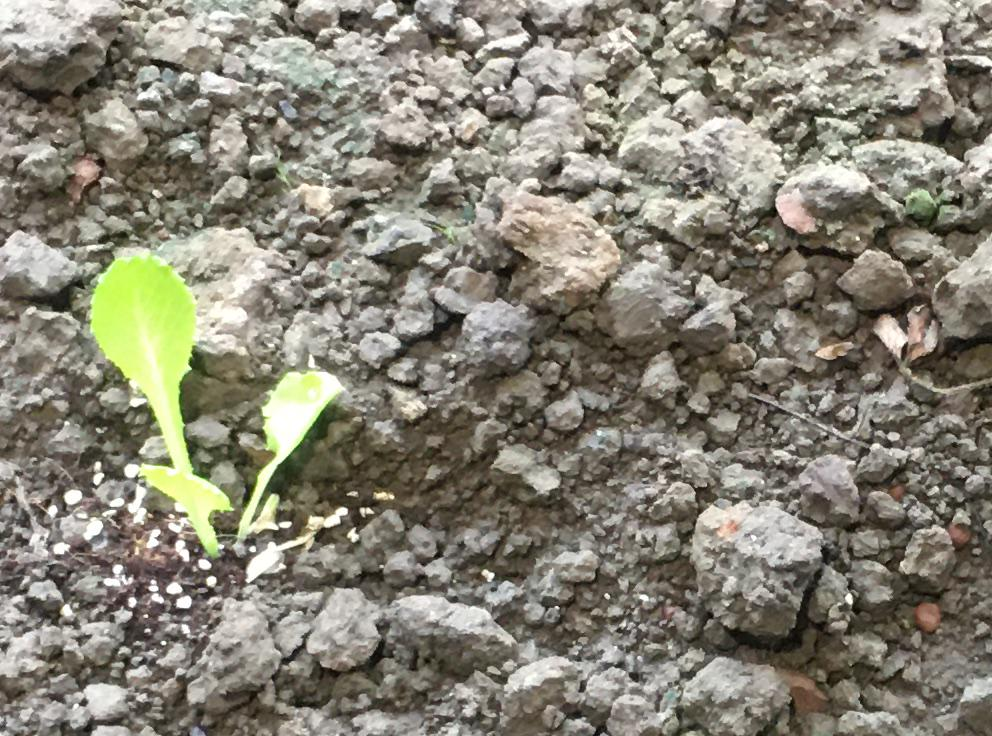block: (691, 498, 813, 645), (1, 5, 123, 92), (185, 595, 284, 700), (679, 657, 785, 736)
